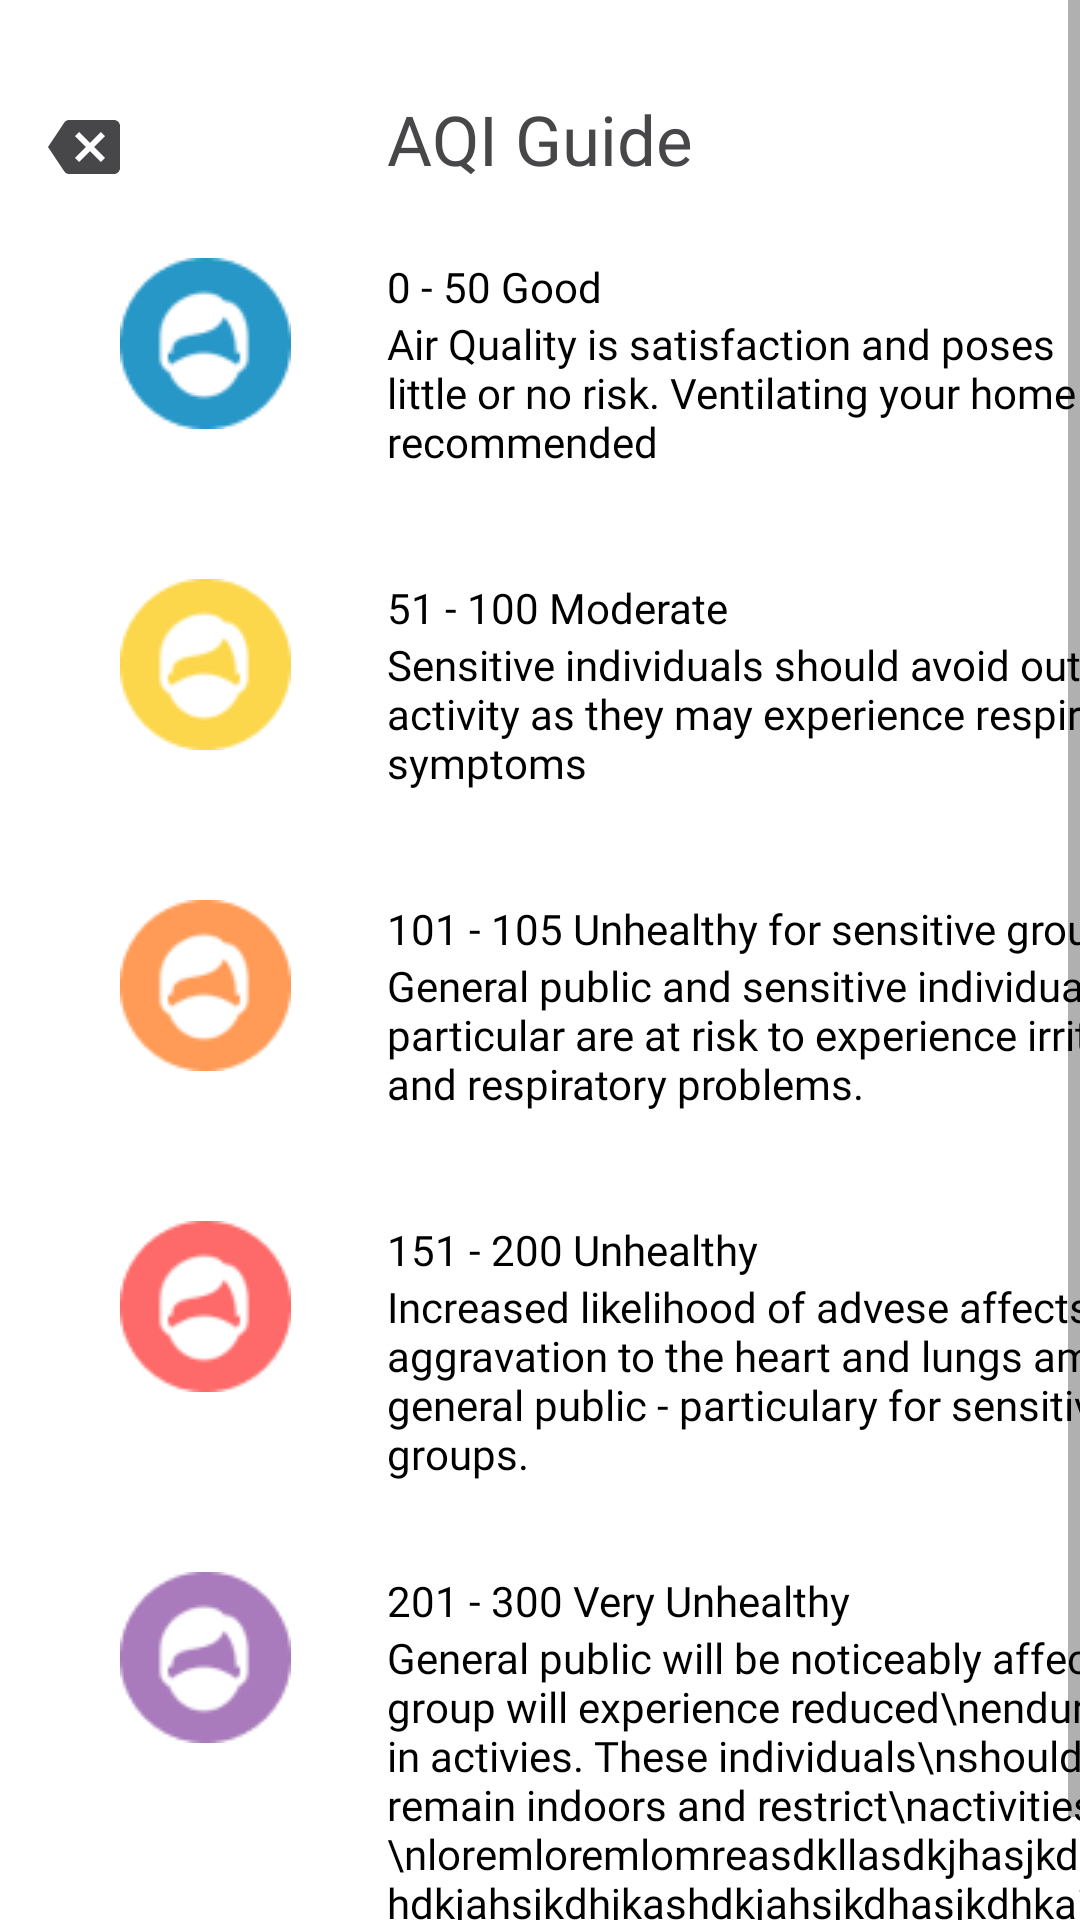

Icon bounding boxes for this 1080w x 1920h phone screenshot, format detection(x1, y1, x2, y2):
backspace: detection(48, 120, 120, 174)
category moderate: detection(120, 579, 291, 750)
category unhealthy: detection(120, 1221, 291, 1392)
category unhealthy for: detection(120, 900, 291, 1071)
category very unhealthy: detection(120, 1572, 291, 1743)
